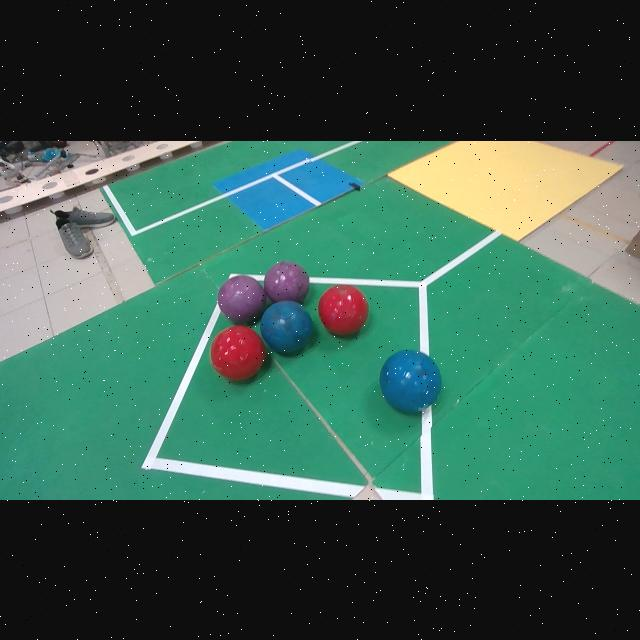B: (380, 349, 441, 412), (262, 301, 311, 351)
P: (218, 275, 267, 323), (264, 260, 310, 302)
R: (210, 324, 265, 379), (319, 284, 369, 335)
